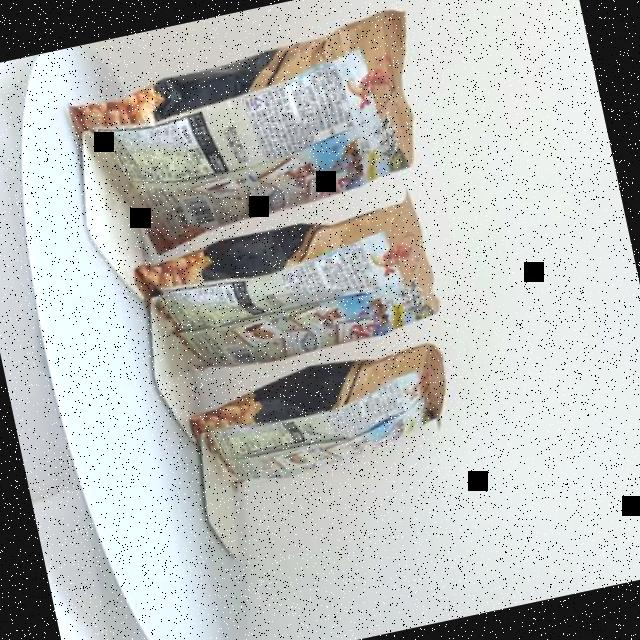snack_bag: (46, 0, 509, 534)
